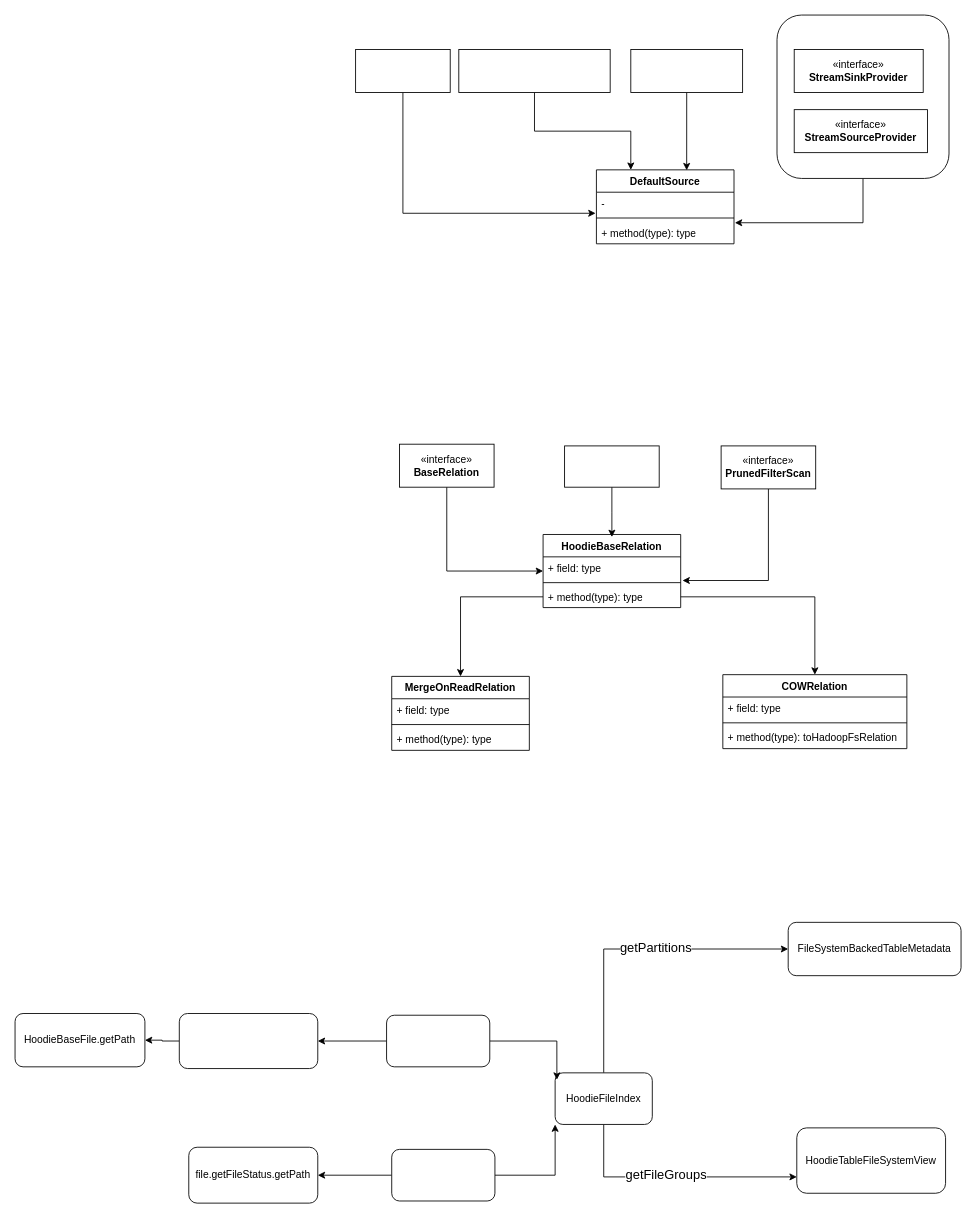
Image size: 976x1219. Some labels were removed from this diagram. Here are the shapes that lost their labels. From the top down, the centre of each, then its label:
At point (402, 70): "«interface» RelationProvider".
At point (534, 70): "«interface» CreatableRelationProvider".
At point (686, 70): "«interface» DatasourceRegister".
At point (611, 466): "«interface» FileRelation".
At point (248, 1041): "HoodieROTablePathFilter".
At point (438, 1040): "COW".
At point (443, 1175): "MOR".
